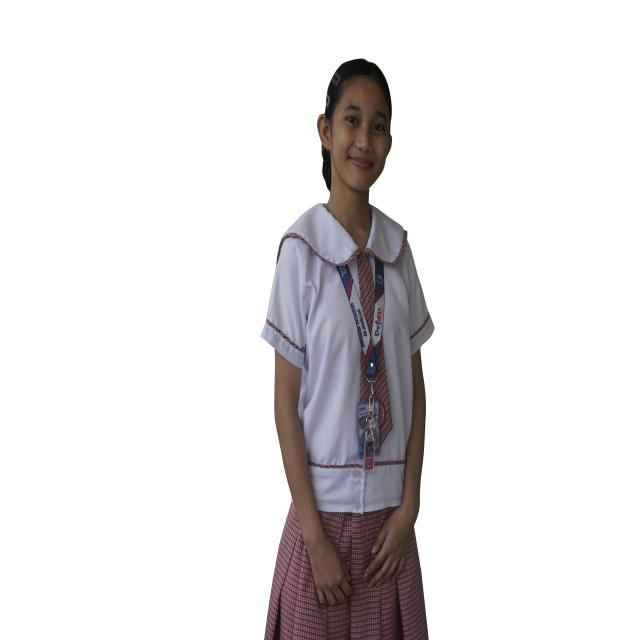id lace: (336, 260, 385, 382)
pologirl: (261, 203, 434, 513), (357, 254, 377, 335), (377, 340, 393, 440), (360, 356, 368, 393)
skirt: (265, 505, 428, 640)
